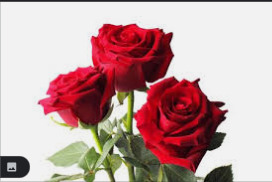RedRose: (130, 79, 230, 170), (87, 15, 177, 90), (36, 62, 115, 127)
